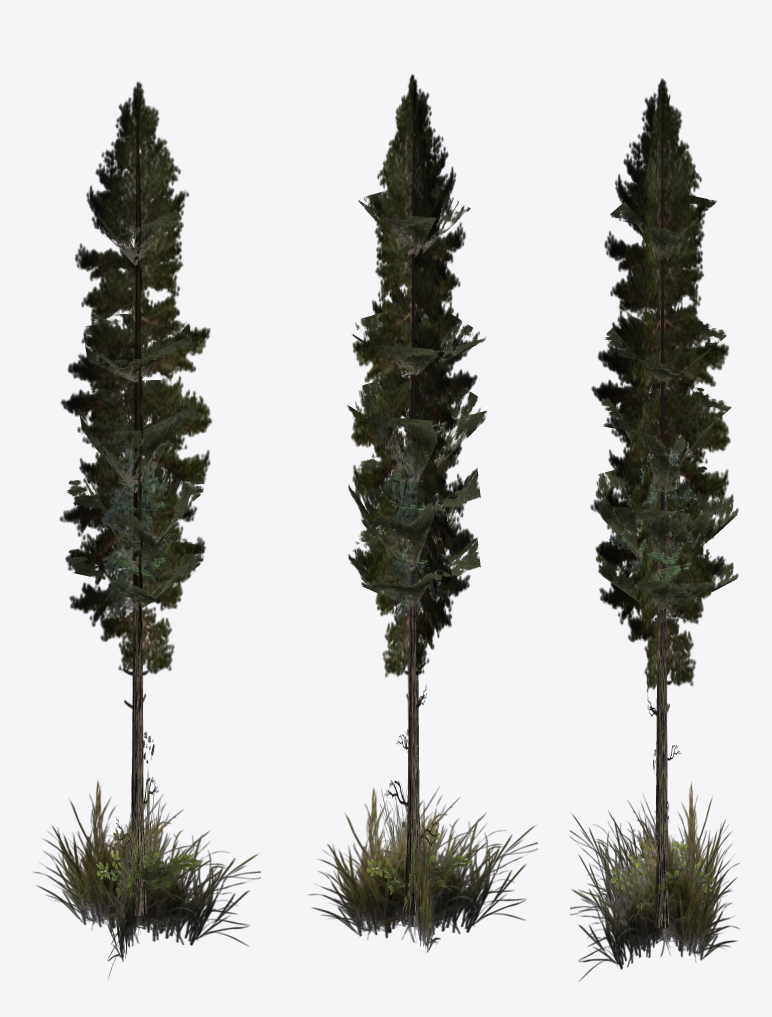
The model's file is forest-kit.glb.
3 renders of one model, left to right at view 1: azimuth 30°, elevation 25°; view 2: azimuth 150°, elevation 25°; view 3: azimuth 270°, elevation 25°, orthographic.
Parts seen in each view (by area): view 1: proto_crown, proto_grass, proto_treeB, proto_trunk, proto_treeA; view 2: proto_crown, proto_grass, proto_trunk, proto_treeB, proto_treeA; view 3: proto_crown, proto_grass, proto_trunk, proto_treeB, proto_treeA.
Boxes of the visible parts, x1,y1,x2,y2 form: proto_crown: [59, 81, 211, 897]; proto_grass: [33, 770, 260, 978]; proto_treeB: [101, 446, 179, 641]; proto_trunk: [129, 107, 147, 915]; proto_treeA: [96, 828, 198, 902]; proto_crown: [347, 74, 486, 896]; proto_grass: [309, 786, 537, 952]; proto_trunk: [403, 99, 421, 915]; proto_treeB: [373, 445, 448, 719]; proto_treeA: [366, 821, 470, 912]; proto_crown: [590, 78, 738, 928]; proto_grass: [570, 782, 739, 981]; proto_trunk: [654, 104, 669, 928]; proto_treeB: [612, 448, 703, 647]; proto_treeA: [610, 839, 715, 923].
Bounding box in the file's own units: 0.5125 × 2.69 × 0.5125.
2 materials, 2 textured.
